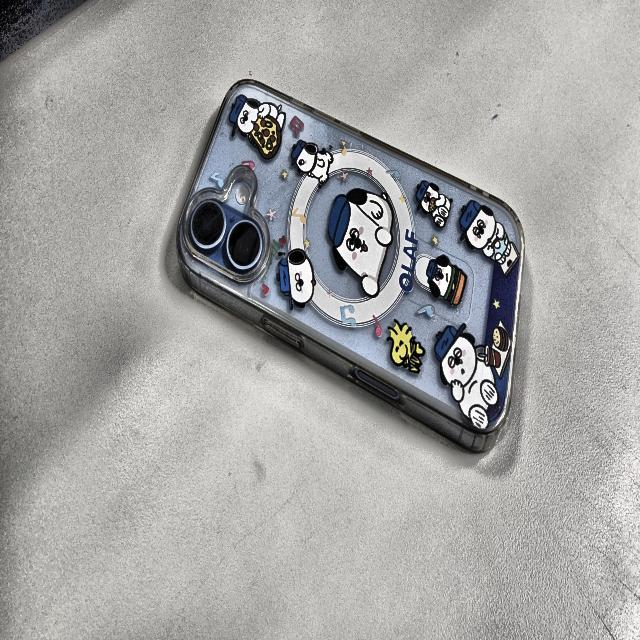PHONE: (177, 79, 524, 451)
